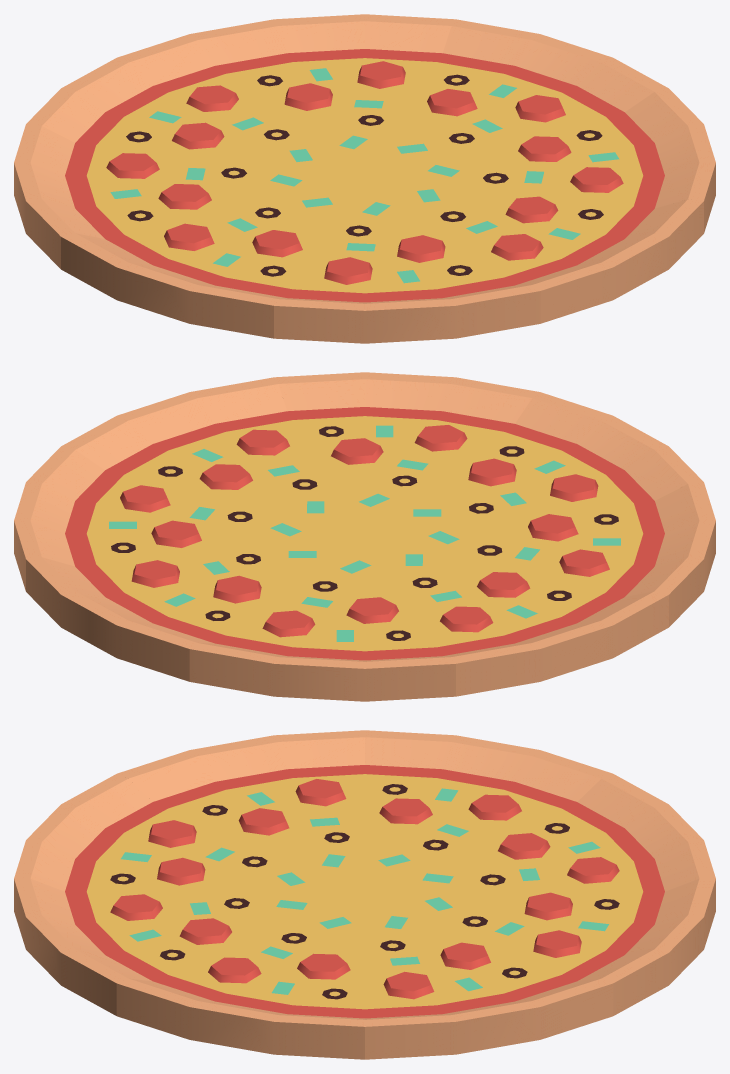
The model's file is pizza.glb.
3 renders of one model, top to bottom at view 1: azimuth 30°, elevation 25°; view 2: azimuth 150°, elevation 25°; view 3: azimuth 270°, elevation 25°, orthographic.
Visible parts, largest first — view 1: slice1; view 2: slice1; view 3: slice1.
Part boxes in pixels (x1=…): slice1: x1=14, y1=14, x2=715, y2=343; slice1: x1=14, y1=372, x2=715, y2=701; slice1: x1=14, y1=730, x2=715, y2=1059.
Bounding box in the file's own units: 0.8418 × 0.0435 × 0.8418.
Materials: 1 (1 with a texture image).
